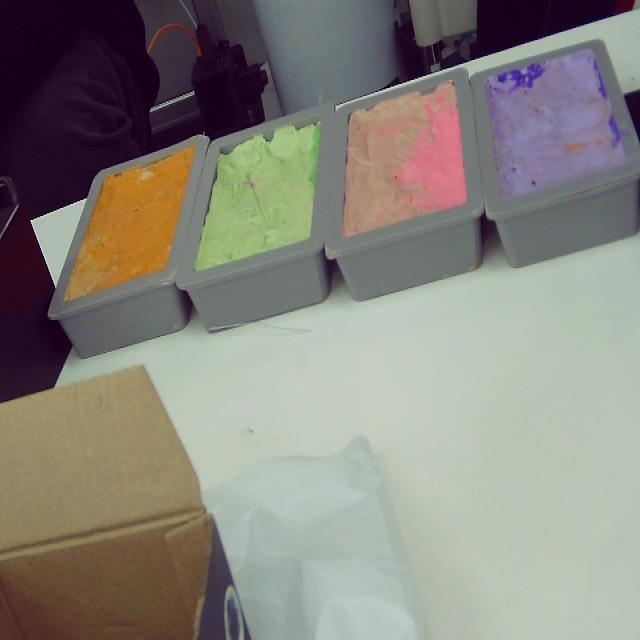block: (470, 35, 640, 267), (327, 64, 488, 300), (172, 106, 338, 332), (44, 136, 210, 357)
